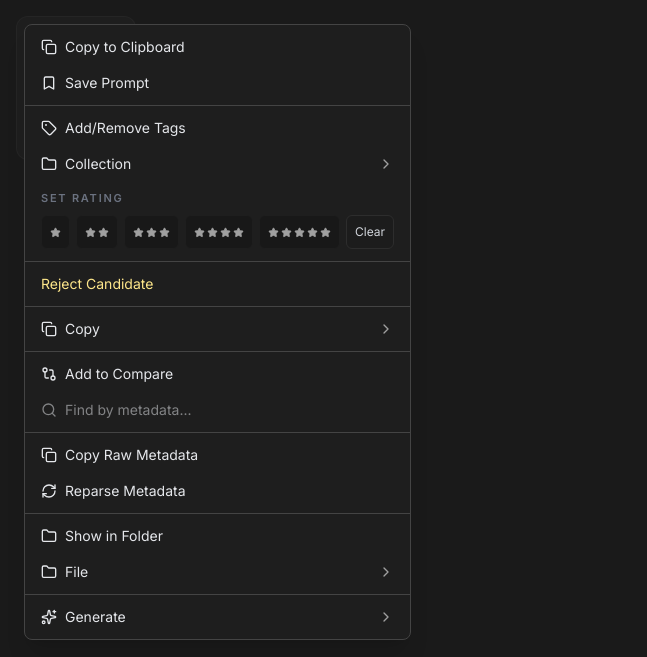
Test: ImageGrid context menu › shows collection actions in the image context menu
The width and height of the screenshot is (647, 657).
expect the text "Collection" is shown: met, box [65,155,131,172]
Click the button "Collection": (98, 164) [25,146,410,182]
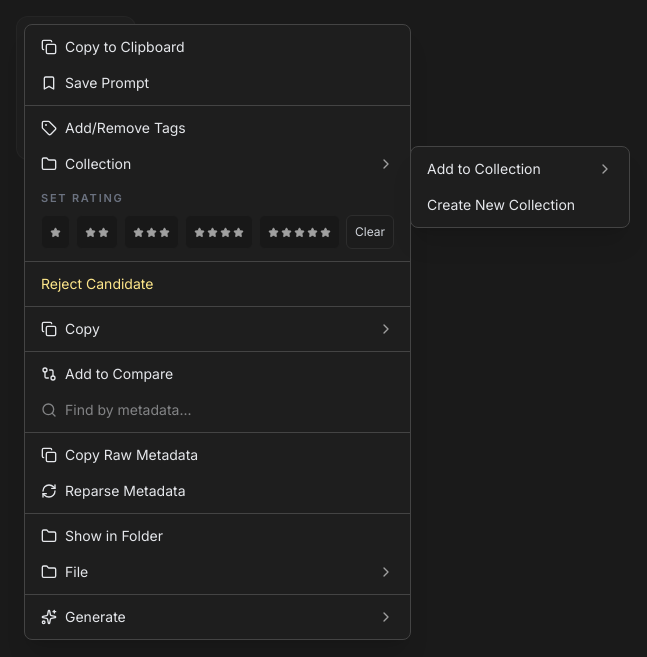
expect the button "Create New Collection" is shown: met, box [411,187,629,223]
